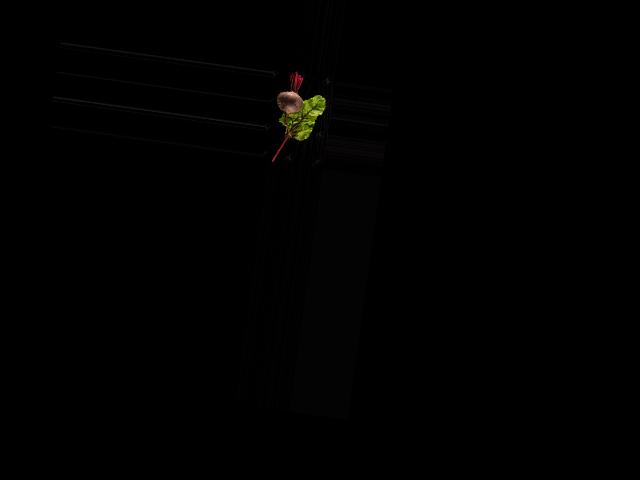beet: (271, 68, 307, 139)
